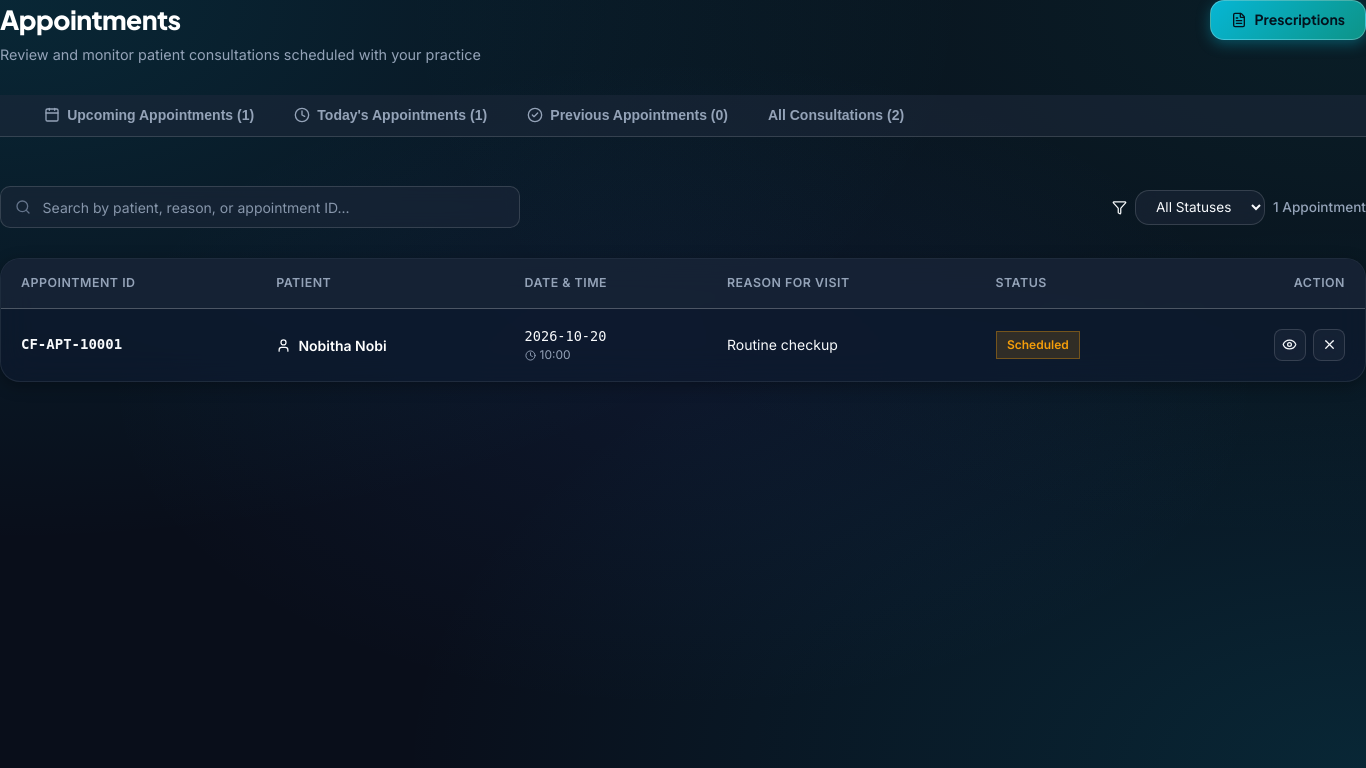
Scenario: CareFlow HMS — Doctor Dashboard Suite › DoctorAppointmentsPage › renders tabbed appointment categories and opens consultation details modal
Expected: the heading "Appointments" is shown, [0,3,181,36]
Expected: the text "Nobitha Nobi" is shown, [298,335,387,356]
# Open details modal
What coordinates should you click on to do the following:
click the button titled "View Consultation Details"
I would click on:
 (1290, 345)
Its box is [1274,329,1306,361].
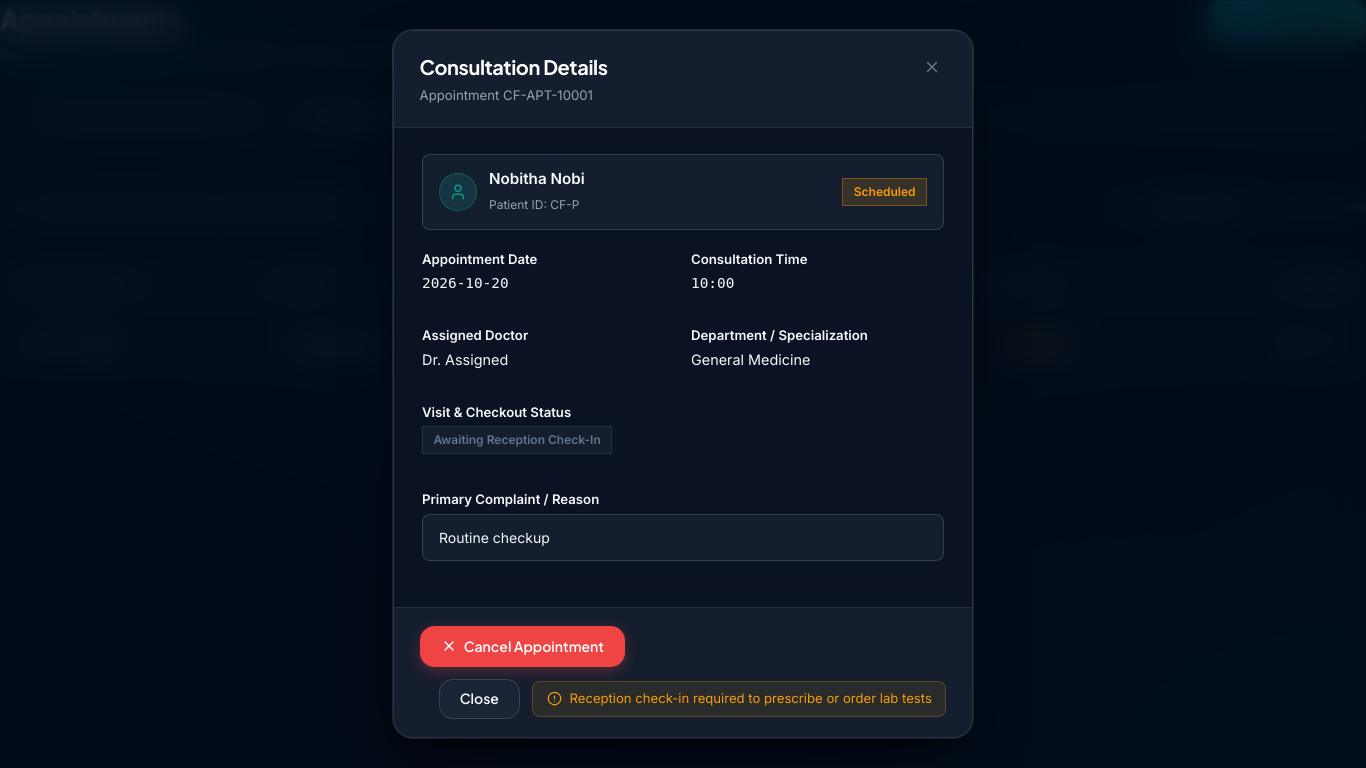
Expected: the heading "Consultation Details" is shown, [420,52,608,82]
Expected: the text "Primary Complaint / Reason" is shown, [422,491,599,507]
